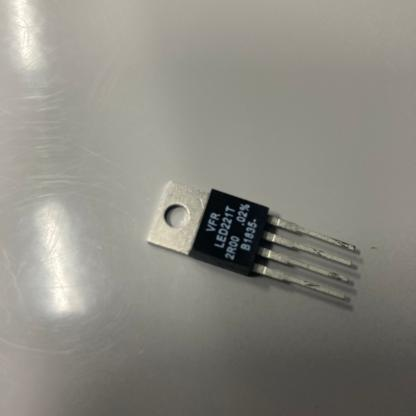SP0000012: (93, 129, 416, 342)
